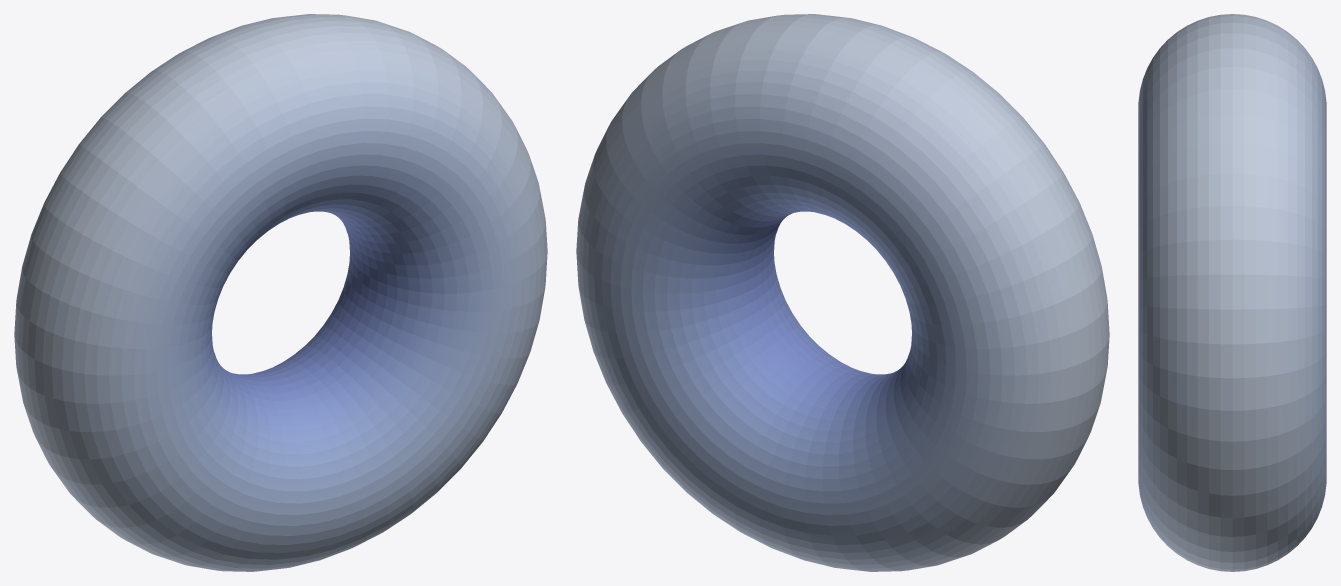
The picture shows the model from 3 angles, left to right: view 1: azimuth 30°, elevation 25°; view 2: azimuth 150°, elevation 25°; view 3: azimuth 270°, elevation 25°; orthographic projection. The views are drawn at different scales.
Visible parts, largest first — view 1: world; view 2: world; view 3: world.
Boxes of the visible parts, x1,y1,x2,y2 form: world: (14,14,547,571); world: (576,14,1109,571); world: (1138,14,1326,571).
Bounding box in the file's own units: 20.13 × 20.09 × 6.79.
